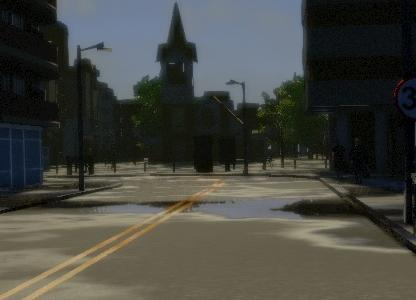Speed_30: (391, 73, 416, 121)
